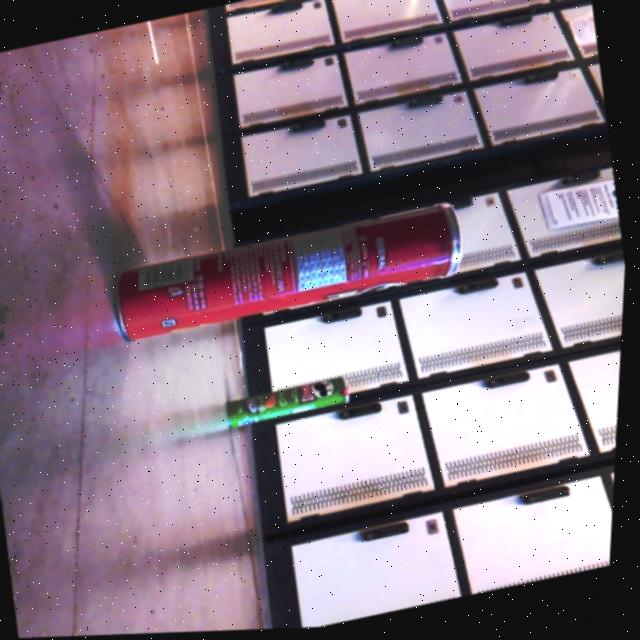greenpringles: (220, 362, 366, 443)
redpringles: (75, 184, 493, 373)
